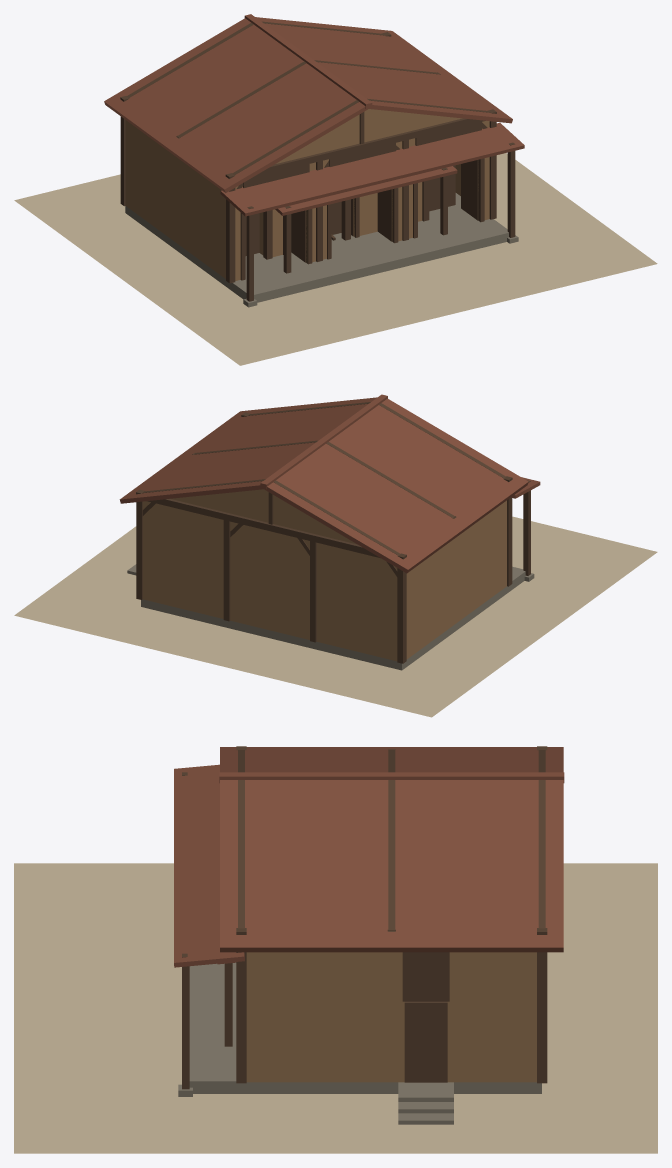
3 renders of one model, top to bottom at view 1: azimuth 30°, elevation 25°; view 2: azimuth 150°, elevation 25°; view 3: azimuth 270°, elevation 25°, orthographic. The views are drawn at different scales.
Visible parts, largest first — view 1: warehouse-l2-low, storehouse-l1-low; view 2: warehouse-l2-low, storehouse-l1-low; view 3: warehouse-l2-low, storehouse-l1-low.
Boxes of the visible parts, x1,y1,x2,y2 form: warehouse-l2-low: [14, 14, 657, 365]; storehouse-l1-low: [115, 166, 551, 329]; warehouse-l2-low: [14, 394, 657, 717]; storehouse-l1-low: [161, 540, 520, 681]; warehouse-l2-low: [14, 746, 657, 1153]; storehouse-l1-low: [78, 918, 593, 1099].
Size of the model in its own units: 16 by 5.88 by 15.
